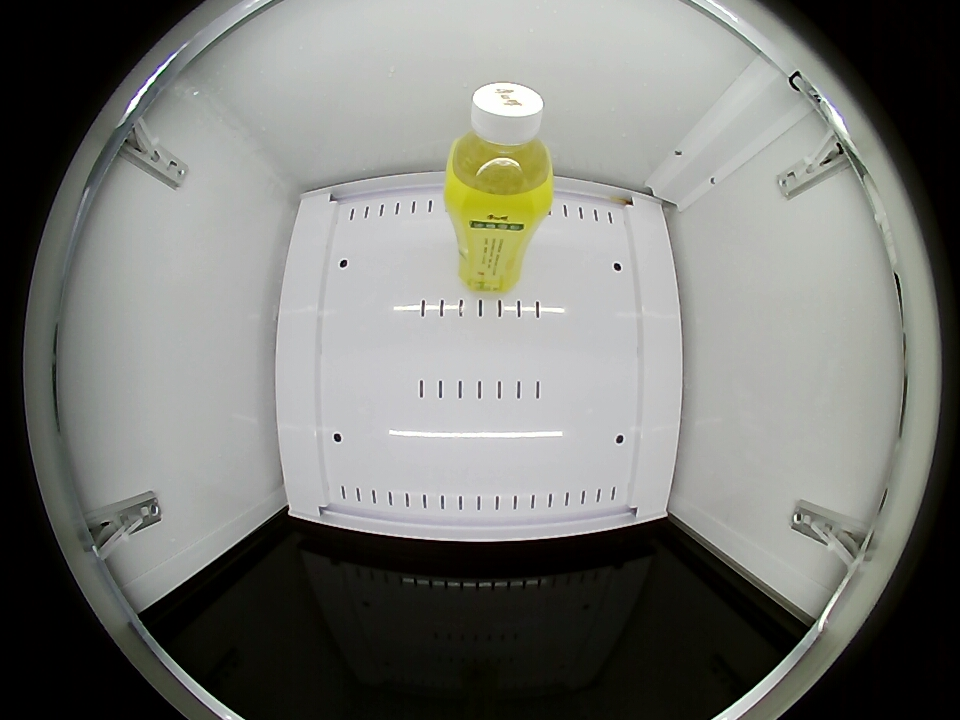bingtangxueli: (447, 82, 553, 216)
